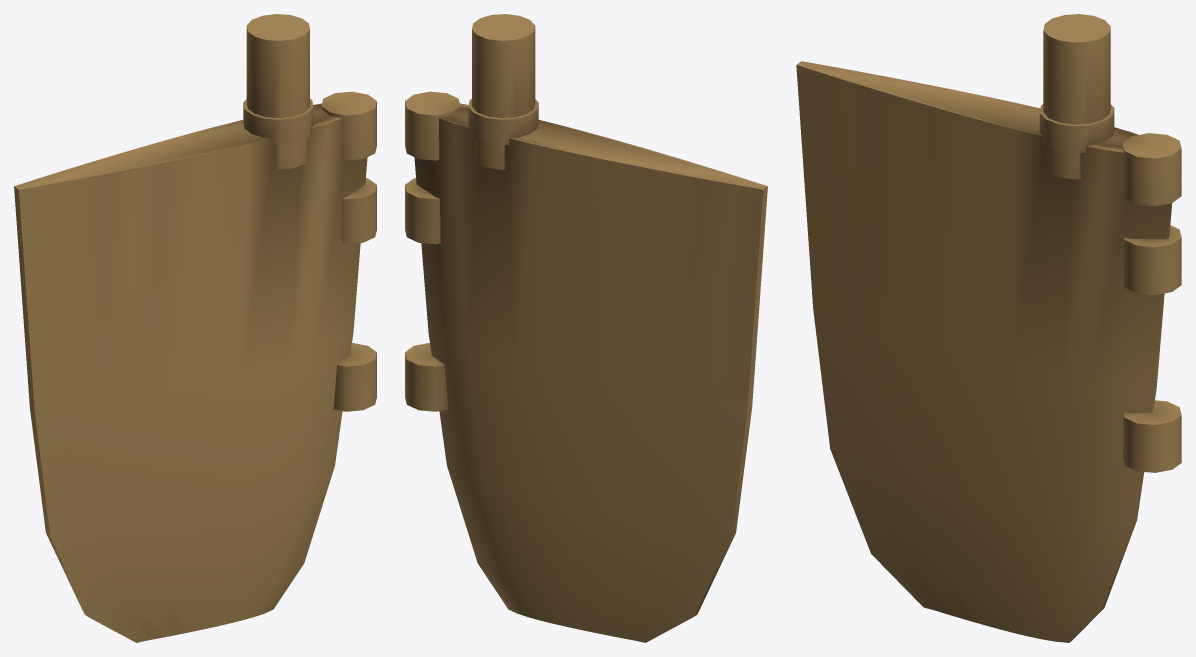
Rendered from rudder.glb.
3 views of the same model, side by side, from view 1: azimuth 30°, elevation 25°; view 2: azimuth 150°, elevation 25°; view 3: azimuth 330°, elevation 25° (orthographic). The views are drawn at different scales.
Visible parts, largest first — view 1: rudder; view 2: rudder; view 3: rudder.
Part boxes in pixels (left/top/right/bottom): rudder: left=14, top=14, right=376, bottom=642; rudder: left=405, top=14, right=767, bottom=642; rudder: left=796, top=14, right=1181, bottom=642.
Bounding box in the file's own units: 0.5788 × 0.9 × 0.1.
